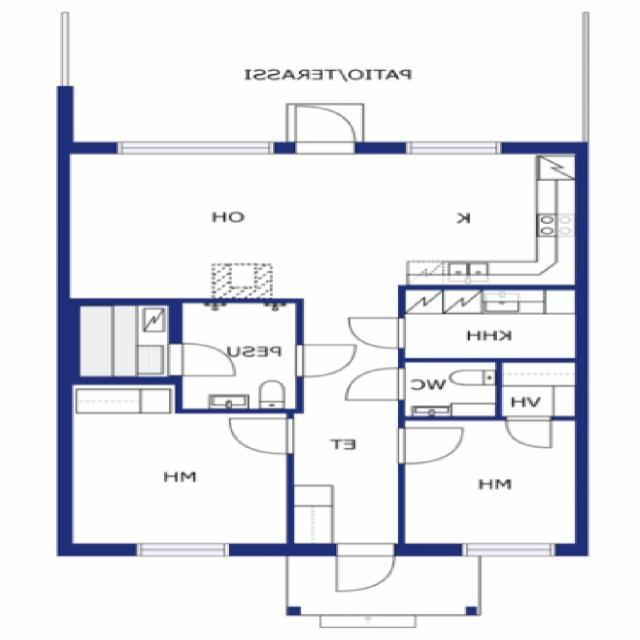door: (296, 106, 354, 154), (338, 545, 394, 592), (398, 428, 464, 464), (230, 419, 294, 454), (168, 344, 234, 376), (297, 345, 357, 377), (347, 369, 406, 400), (350, 320, 406, 348), (507, 416, 551, 449)
